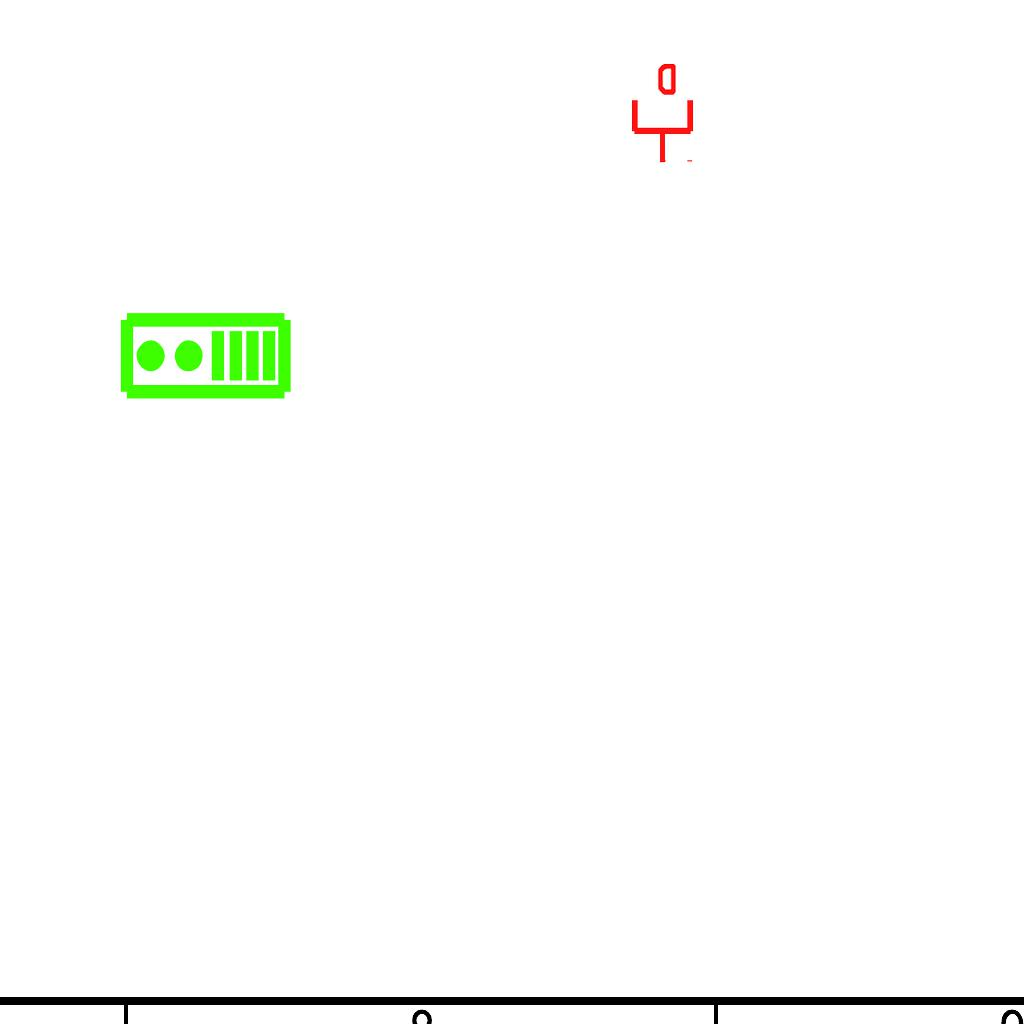Datenanschluss_einfach: (628, 64, 697, 164)
Gegensprechanlage_mit_Video: (117, 310, 293, 405)
